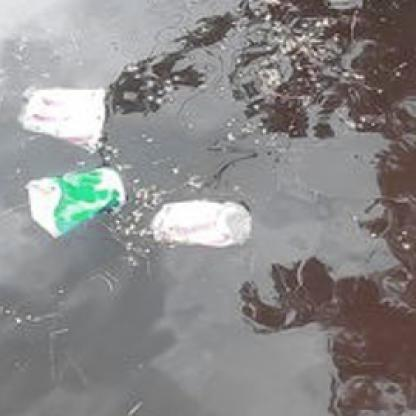Plastic: (20, 83, 109, 154), (148, 196, 257, 250)
Trash: (23, 165, 129, 242)
